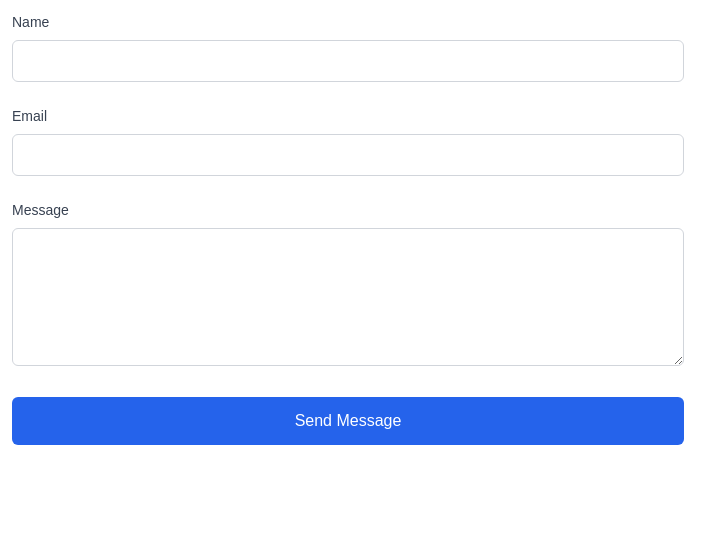
ContactForm Component › should clear error when user starts typing in a field
This screenshot has width=701, height=534.
Click the button "Send Message" at [348, 421], box [12,397,684,445]
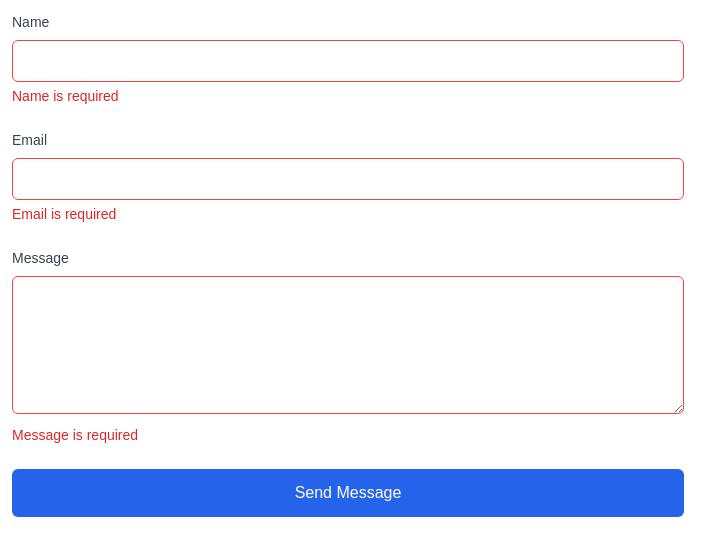
Check: the text "Name is required" is shown, box [12,88,119,104]
Type "John" into the field labelled "Name" at [348, 61], box [12,40,684,82]
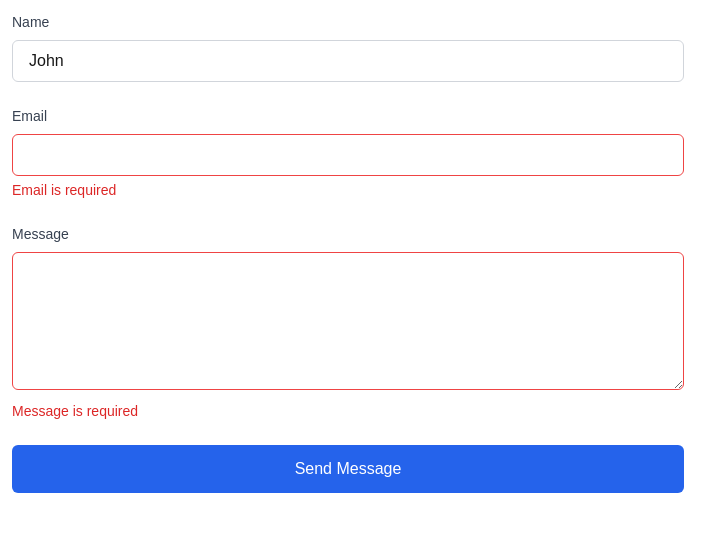
Check: the text "Name is required" is gone
